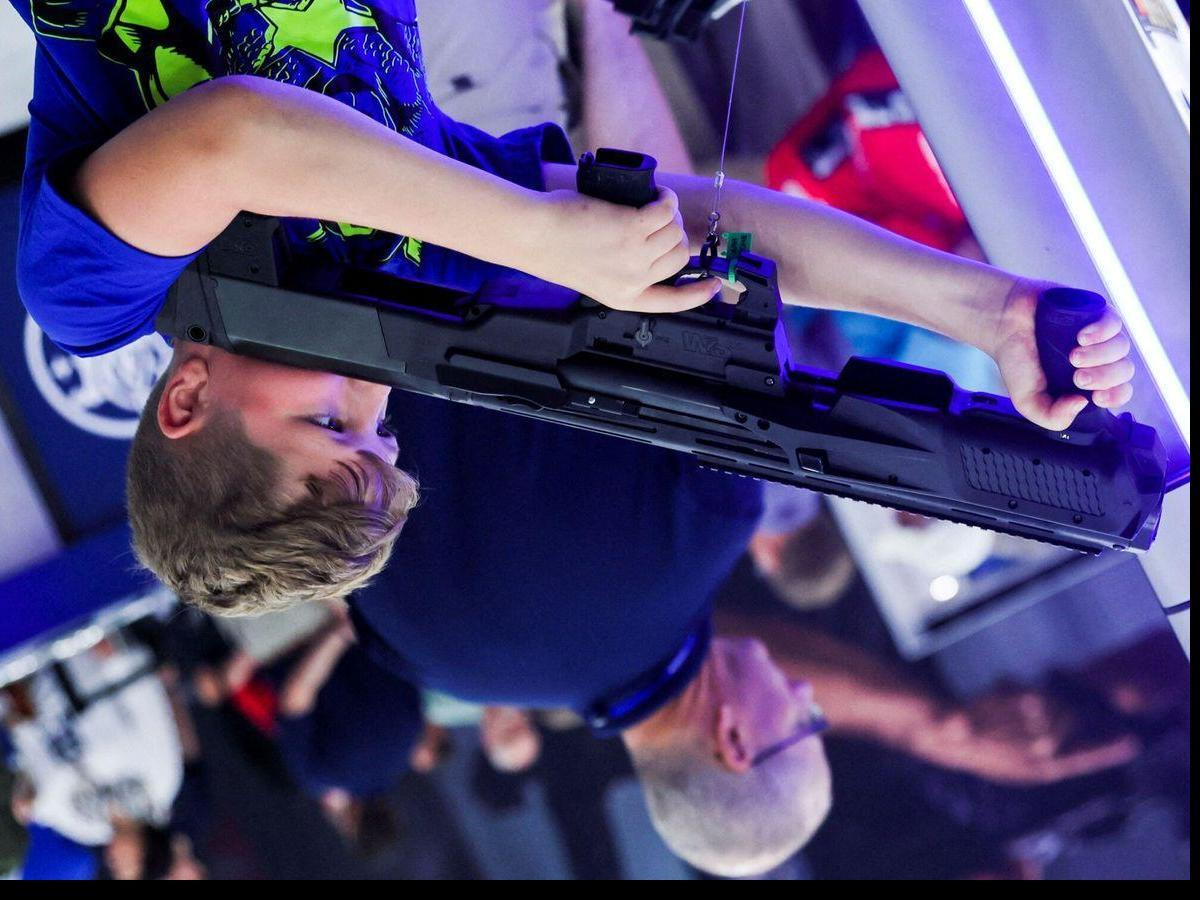larga: (157, 146, 1169, 552)
